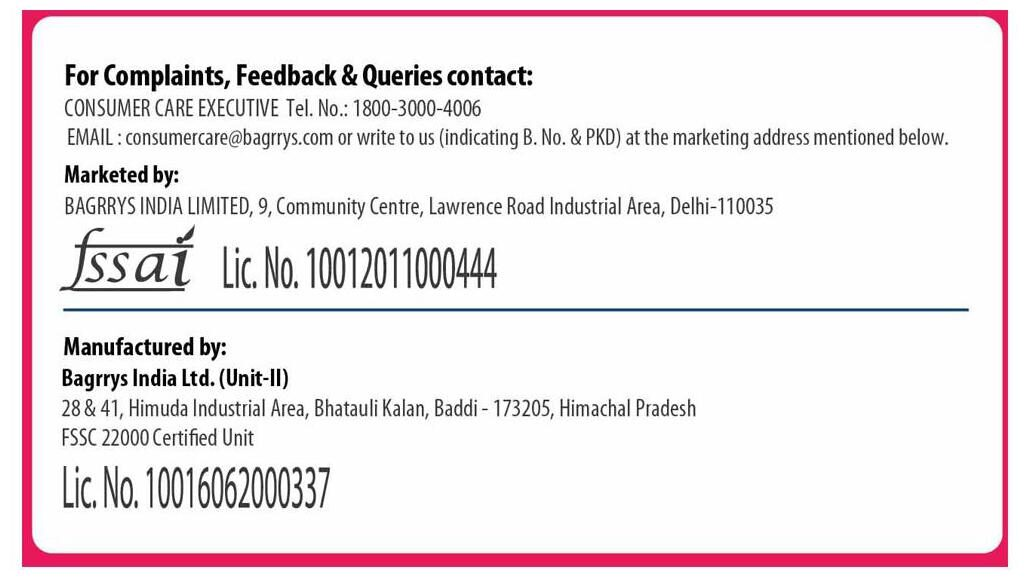fssai: (58, 225, 194, 294)
